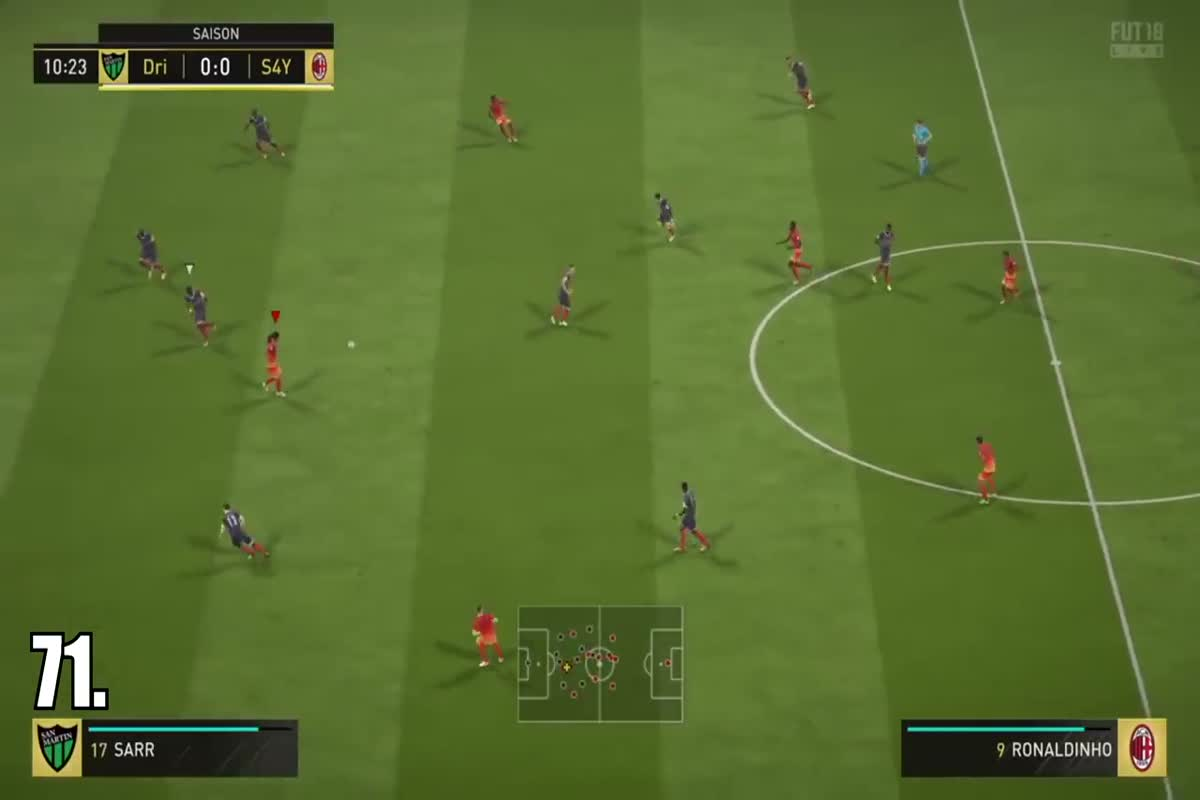ball: (336, 333, 363, 355)
